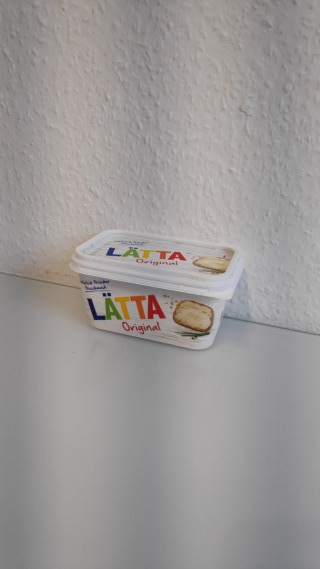laetta: (69, 224, 249, 351)
